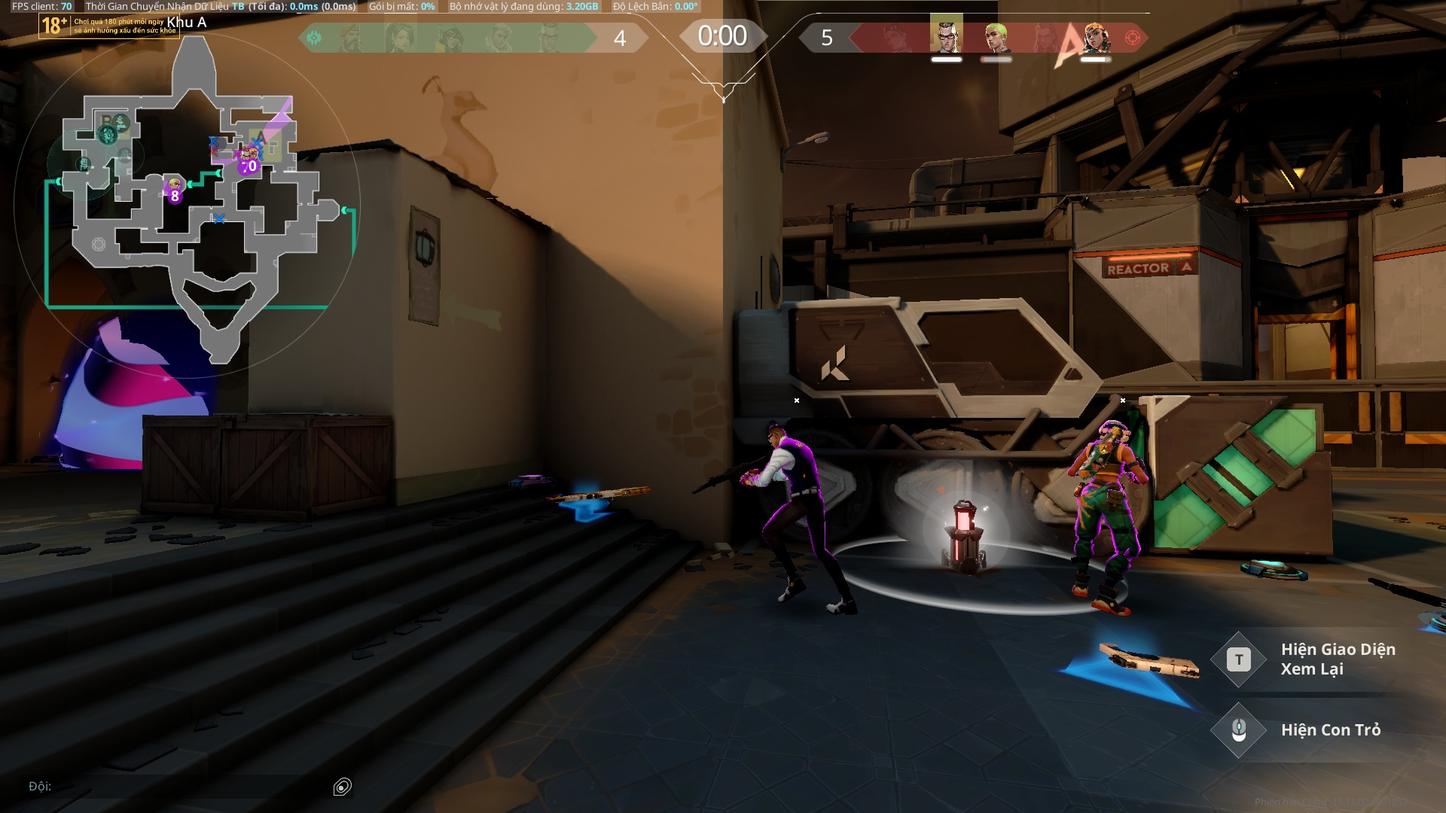body: (773, 439, 825, 489), (1085, 437, 1128, 486)
head: (1100, 418, 1125, 441), (765, 425, 789, 444)
